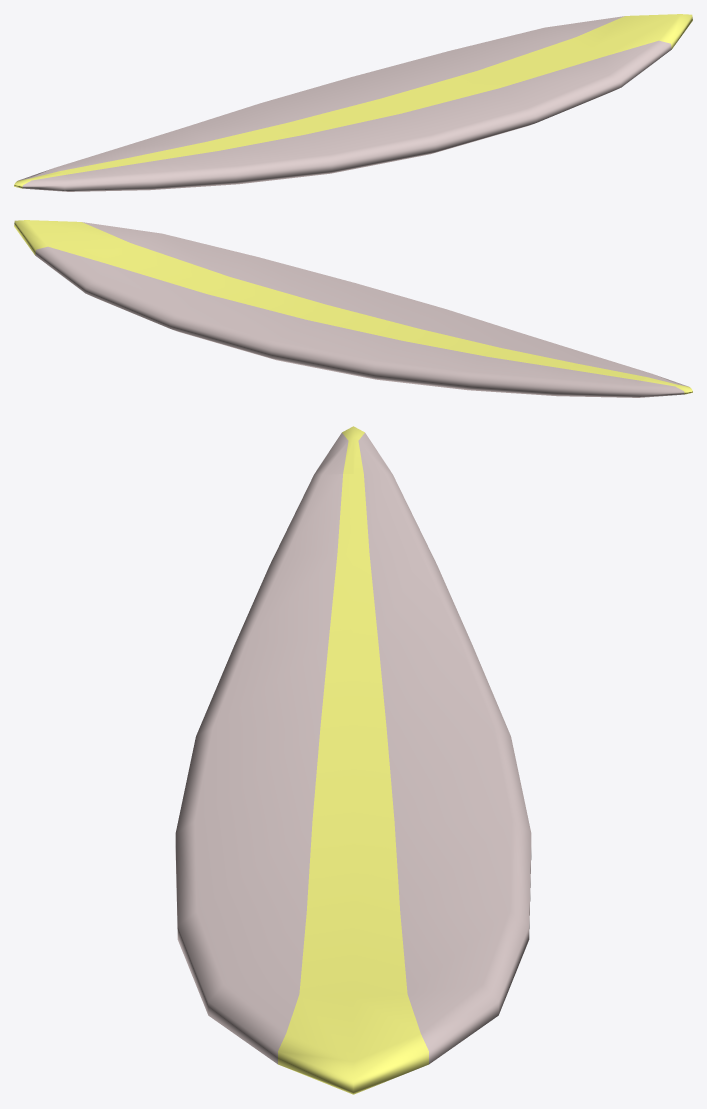
The model's file is surfboard_01.fbx.
The picture shows the model from 3 angles, top to bottom: view 1: azimuth 30°, elevation 25°; view 2: azimuth 150°, elevation 25°; view 3: azimuth 270°, elevation 25°; orthographic projection. The views are drawn at different scales.
Parts seen in each view (by area): view 1: surfboard_02; view 2: surfboard_02; view 3: surfboard_02.
Part boxes in pixels (x1=…): surfboard_02: x1=14, y1=14, x2=692, y2=191; surfboard_02: x1=14, y1=220, x2=692, y2=397; surfboard_02: x1=175, y1=426, x2=531, y2=1094.
Bounding box in the file's own units: 565 × 32.2 × 128.
